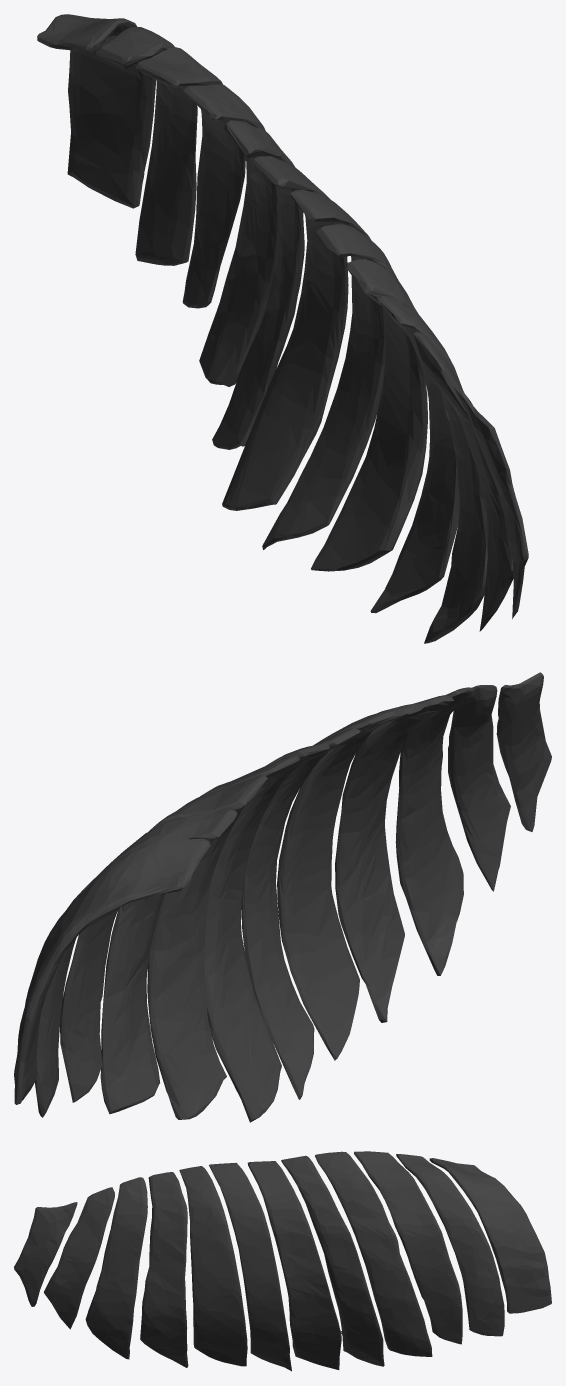
File: External_intercostals.glb
3 views of the same model, one above another, from view 1: azimuth 30°, elevation 25°; view 2: azimuth 150°, elevation 25°; view 3: azimuth 270°, elevation 25° (orthographic). The views are drawn at different scales.
Parts seen in each view (by area): view 1: External_intercostals; view 2: External_intercostals; view 3: External_intercostals.
Boxes of the visible parts, x1,y1,x2,y2 form: External_intercostals: (37,14,528,643); External_intercostals: (14,672,551,1122); External_intercostals: (14,1151,551,1371).
Bounding box in the file's own units: 0.3072 × 0.795 × 1.81.
Materials: 1 (1 with a texture image).
